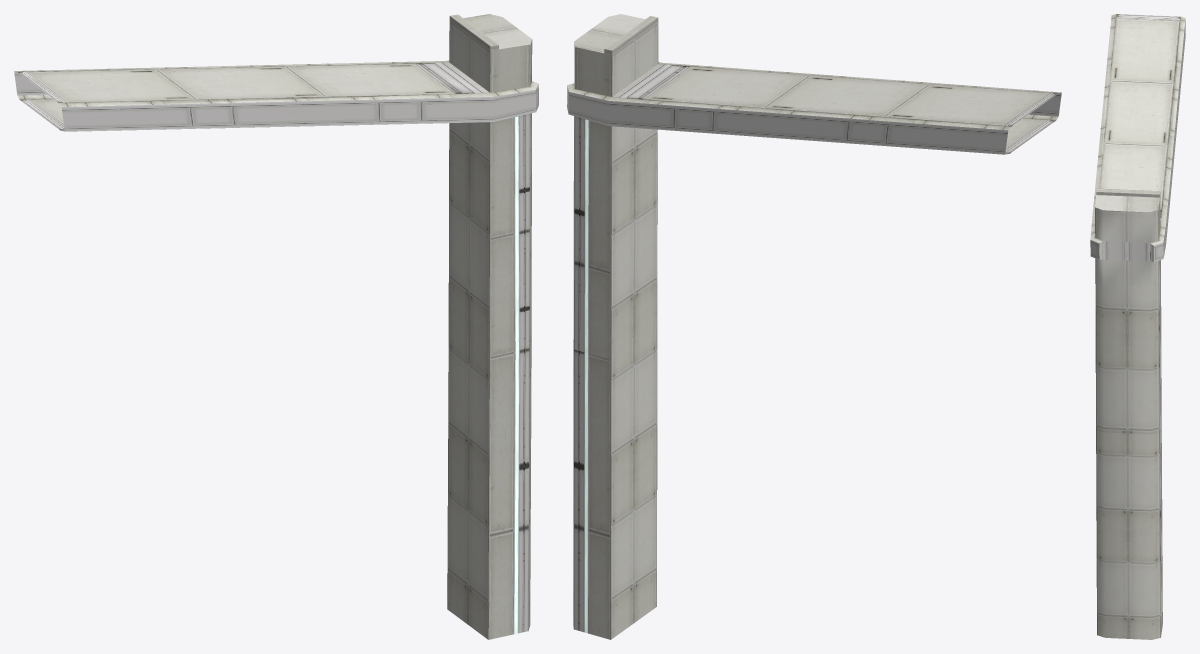
The model's file is STA20_vinebeam01.FBX.
3 renders of one model, left to right at view 1: azimuth 30°, elevation 25°; view 2: azimuth 150°, elevation 25°; view 3: azimuth 270°, elevation 25°, orthographic. The views are drawn at different scales.
Parts seen in each view (by area): view 1: STA20_vinebeam01; view 2: STA20_vinebeam01; view 3: STA20_vinebeam01.
Part boxes in pixels (x1,y1,x2,y2): STA20_vinebeam01: (14, 14, 538, 639); STA20_vinebeam01: (567, 14, 1061, 639); STA20_vinebeam01: (1090, 14, 1185, 639).
Bounding box in the file's own units: 11.78 × 15.1 × 2.83.
